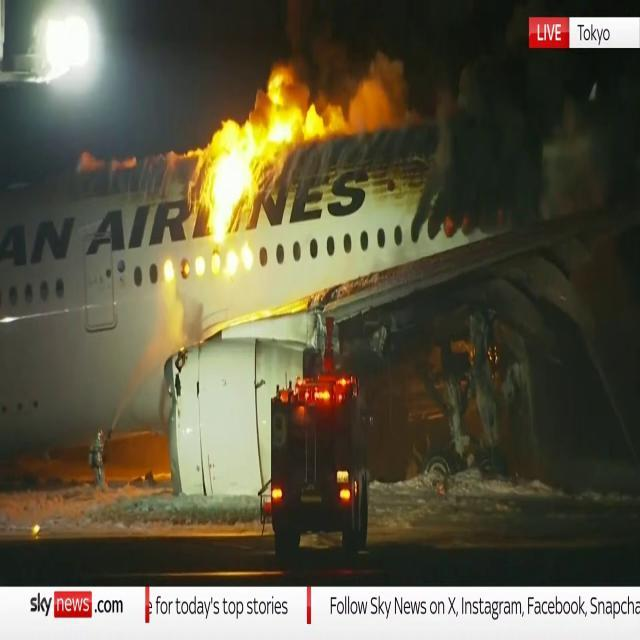Fire: (191, 59, 329, 274), (294, 367, 354, 408)
Smoke: (420, 40, 560, 190), (304, 10, 416, 138)
